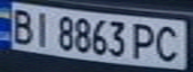3: (106, 18, 130, 58)
6: (90, 17, 112, 56)
8: (51, 12, 75, 52), (72, 16, 93, 54)
B: (6, 6, 36, 45)
C: (151, 22, 187, 63)
I: (30, 9, 57, 47)
P: (127, 20, 160, 61)
